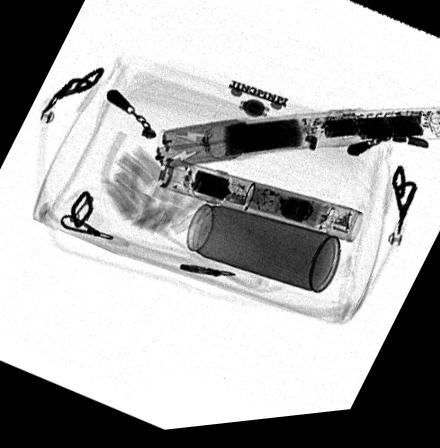Baton: (156, 160, 364, 253), (153, 117, 440, 172)
